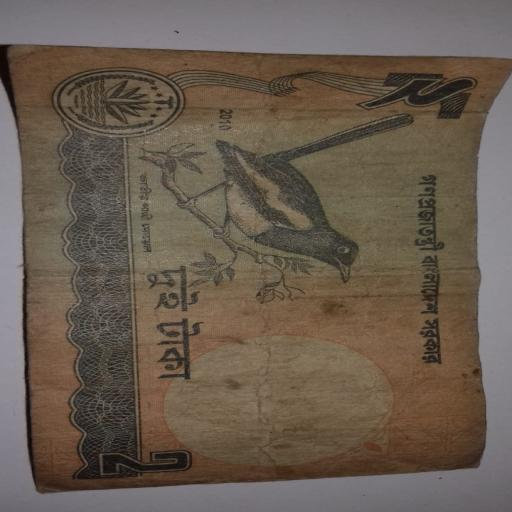2taka: (9, 46, 511, 491)
